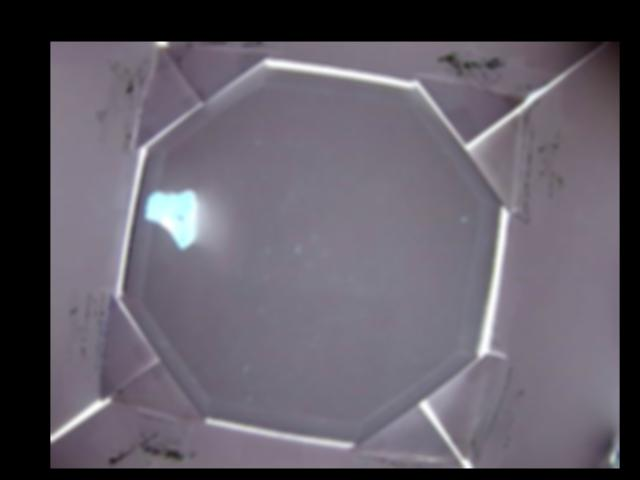Brisk: (144, 190, 198, 249)
